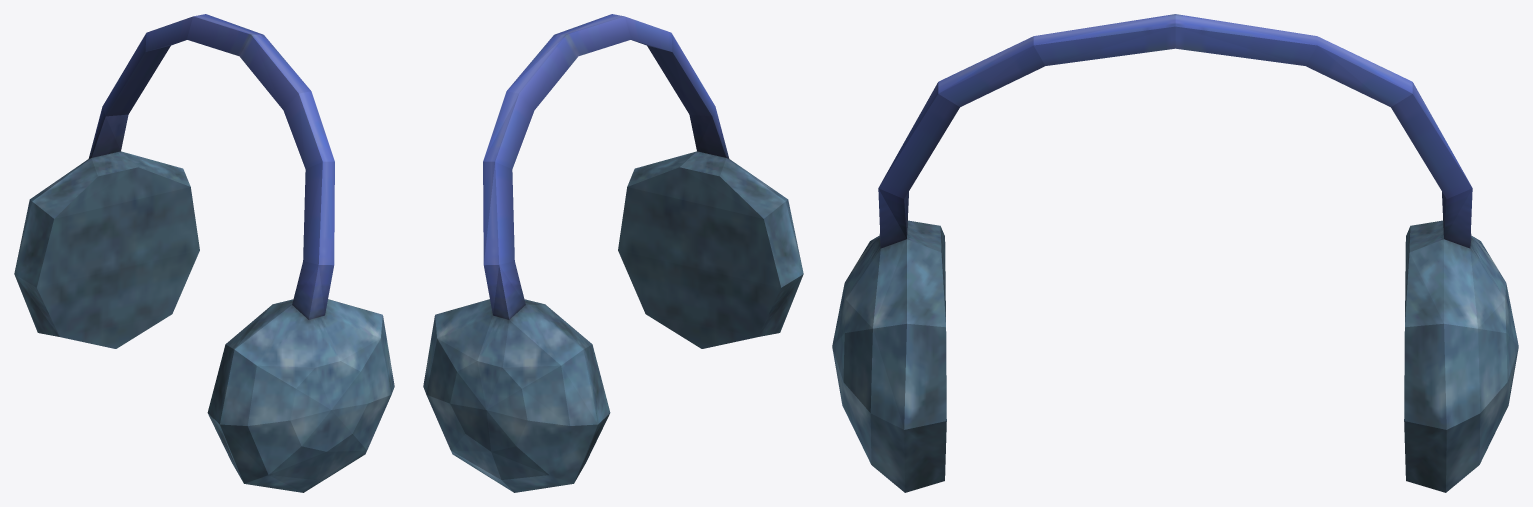
Rendered from Wolf_earmuff.obj.
3 views of the same model, side by side, from view 1: azimuth 30°, elevation 25°; view 2: azimuth 150°, elevation 25°; view 3: azimuth 270°, elevation 25° (orthographic). The views are drawn at different scales.
Parts seen in each view (by area): view 1: Wolf_earmuff_tri; view 2: Wolf_earmuff_tri; view 3: Wolf_earmuff_tri.
Boxes of the visible parts, left/top/right/bottom form: Wolf_earmuff_tri: left=14, top=14, right=394, bottom=492; Wolf_earmuff_tri: left=423, top=14, right=803, bottom=492; Wolf_earmuff_tri: left=832, top=14, right=1518, bottom=492.
Size of the model in its own units: 0.1219 by 0.2448 by 0.3048.
1 material, 1 textured.
